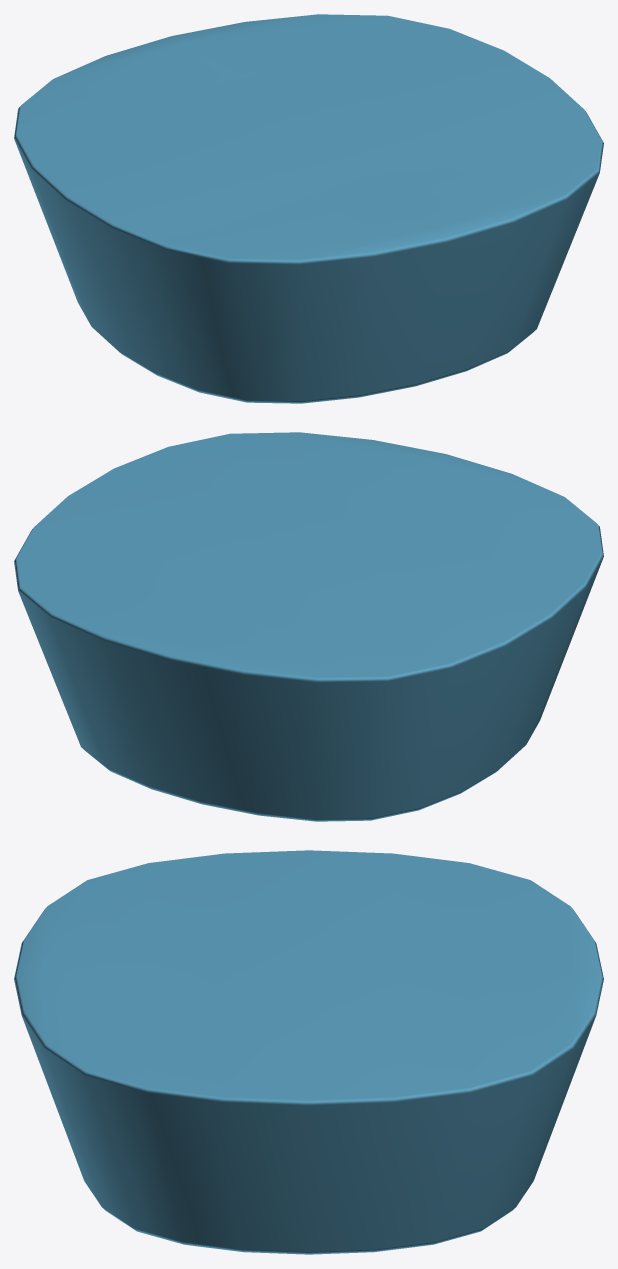
The model's file is Isl_5_Base.fbx.
3 renders of one model, top to bottom at view 1: azimuth 30°, elevation 25°; view 2: azimuth 150°, elevation 25°; view 3: azimuth 270°, elevation 25°, orthographic. The views are drawn at different scales.
Parts seen in each view (by area): view 1: Isl_5_Base; view 2: Isl_5_Base; view 3: Isl_5_Base.
Part boxes in pixels (x1,y1,x2,y2): Isl_5_Base: (14, 14, 603, 403); Isl_5_Base: (14, 432, 603, 821); Isl_5_Base: (14, 850, 603, 1254).
Size of the model in its own units: 2592 by 2560 by 900.
Materials: 1 (1 with a texture image).
